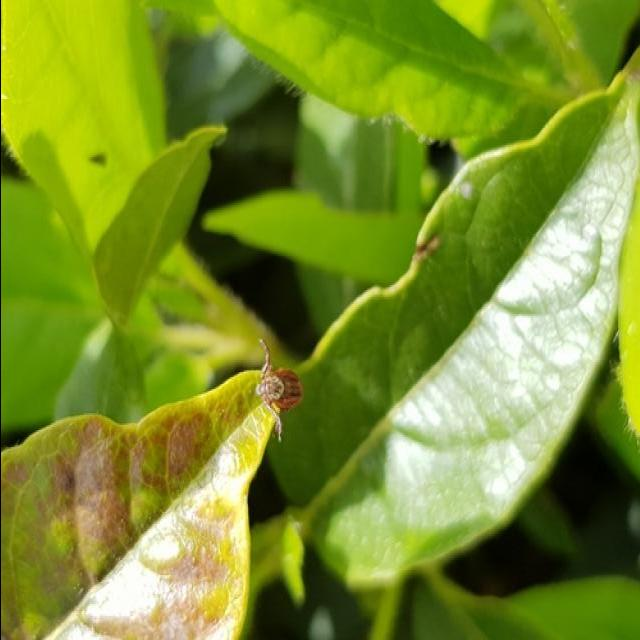Dermacentor Reticulatus-F: (255, 340, 305, 442)
